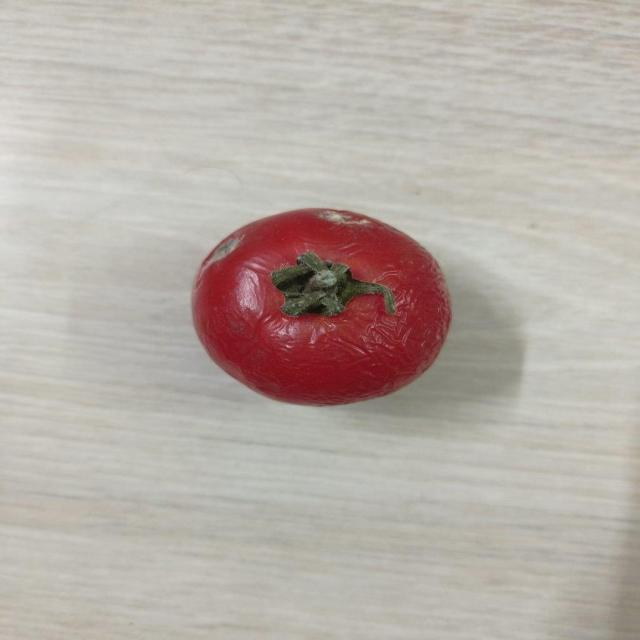Rotten: (191, 210, 453, 405)
